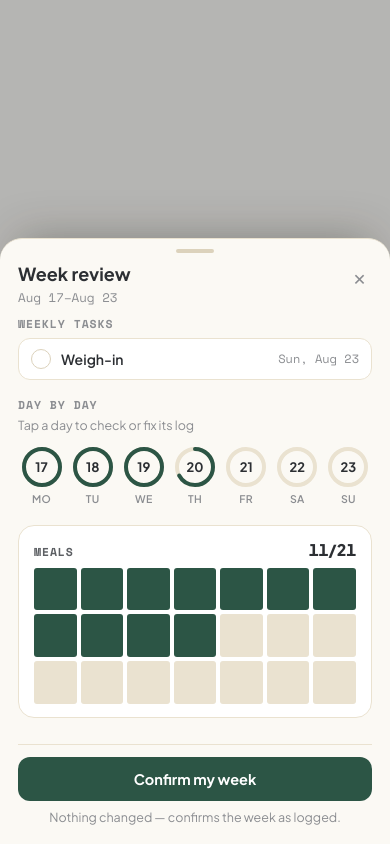
Test: WeekReviewSheet › tapping a day chip drills in, showing that day and hiding the week list
Expected: the heading "DAY BY DAY" is shown, [18,396,98,413]
Click the list item "19 We". click: (144, 476)
box: [120,443,167,509]
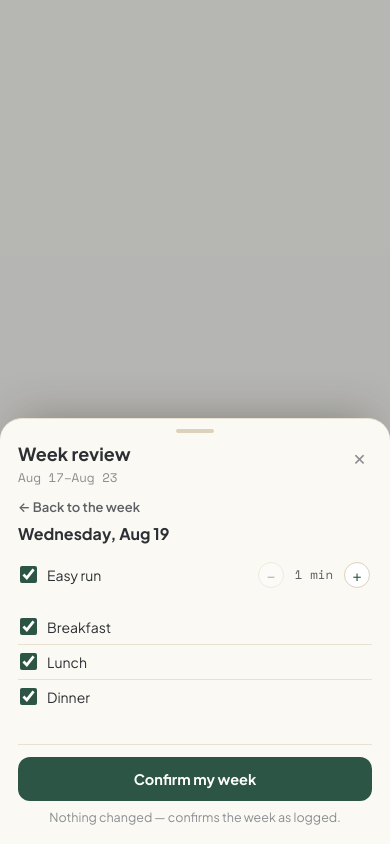
Now the text "Easy run" is shown, box [47,566,101,584]
Now the button "← Back to the week" is shown, box [18,496,140,516]
Now the heading "WEEKLY TASKS" is gone
